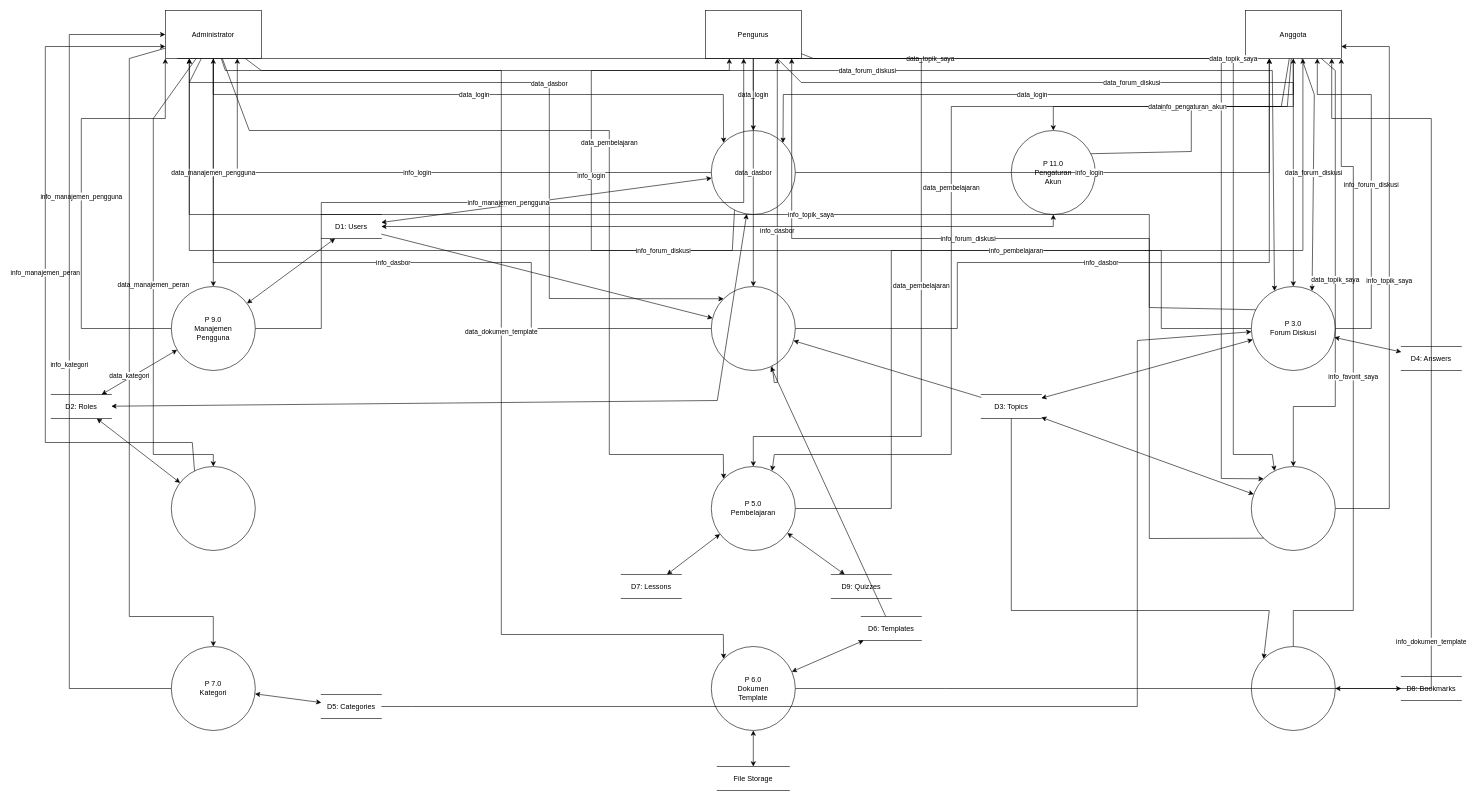
The diagram is 1477 pixels wide and 801 high, and some of its shapes have lost their labels. The centre of each missing label's shape, as x and y in pixels:
"P 1.0 Login" goes at point (753, 172).
"P 10.0 Manajemen Peran" goes at point (213, 508).
"P 2.0 Dashboard" goes at point (753, 328).
"P 4.0 Topik Saya" goes at point (1293, 508).
"P 8.0 Favorit Saya" goes at point (1293, 688).
